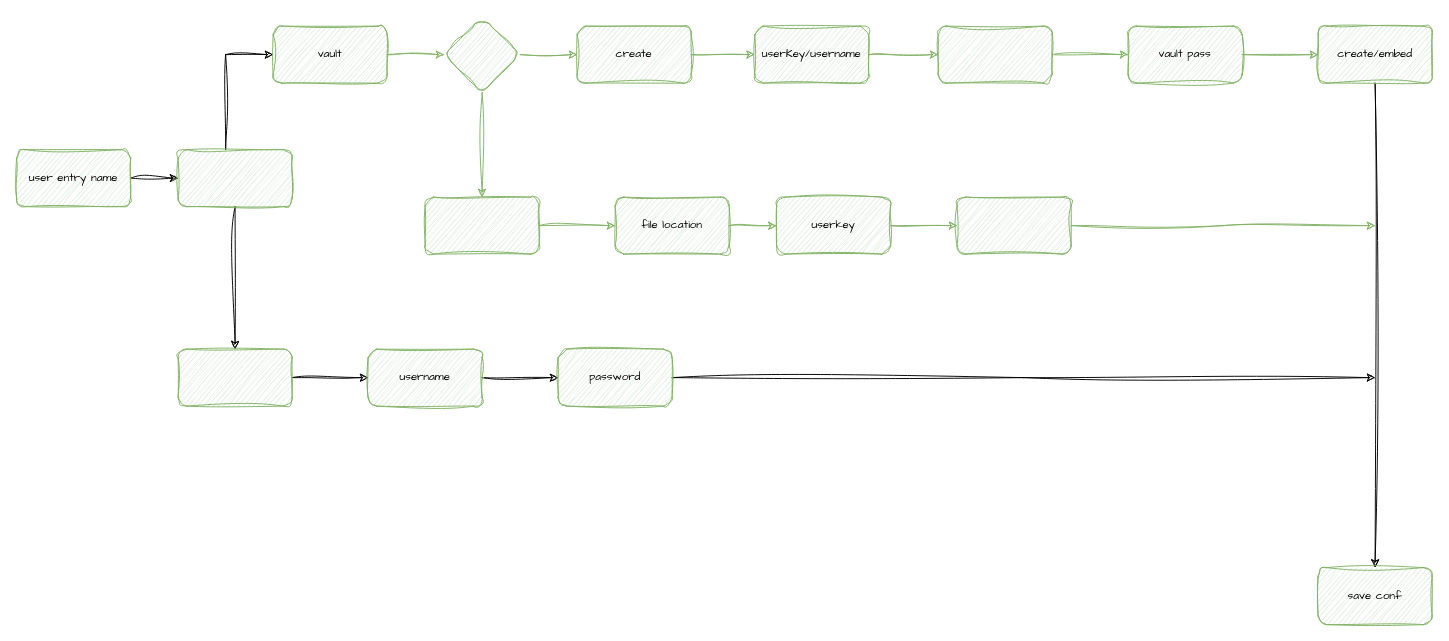
This 1449x641 diagram has some shape labels left out. Here are the shapes that lost their labels. From the top down, the centre of each, then its label:
At (481,54): "bind/create".
At (994,54): "passKey/password".
At (234,178): "credentials backend".
At (481,225): "bind".
At (1013,225): "passKey".
At (234,377): "keyring".
